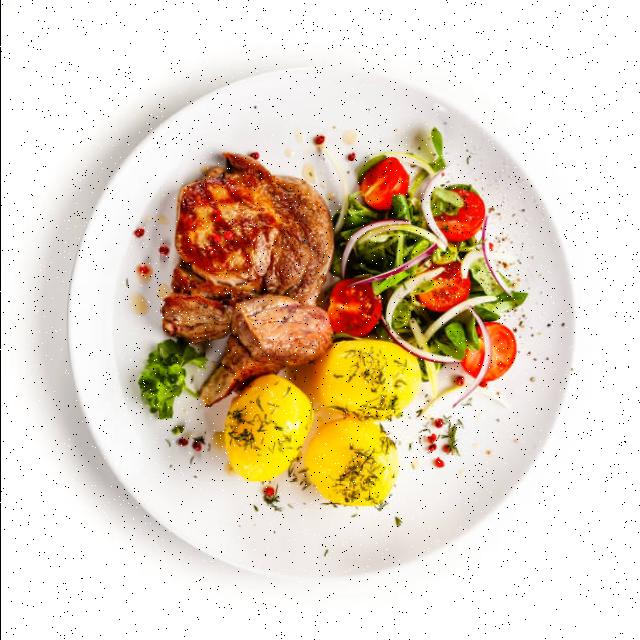Chicken: (162, 153, 332, 405)
Green veg: (332, 195, 526, 359), (138, 339, 207, 418), (429, 185, 474, 219)
Non green veg: (327, 279, 381, 337), (415, 261, 471, 312), (434, 189, 484, 241), (361, 159, 408, 209), (481, 322, 516, 386), (461, 348, 482, 375)
Potato: (222, 339, 420, 505)
